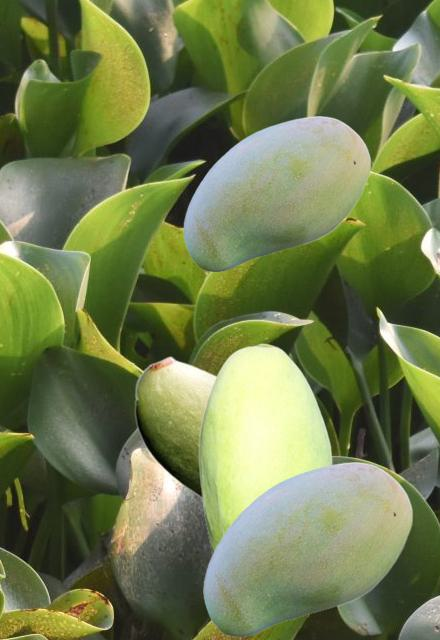green_mango: (203, 462, 412, 635), (183, 116, 370, 270), (198, 343, 331, 554), (134, 355, 216, 498)
